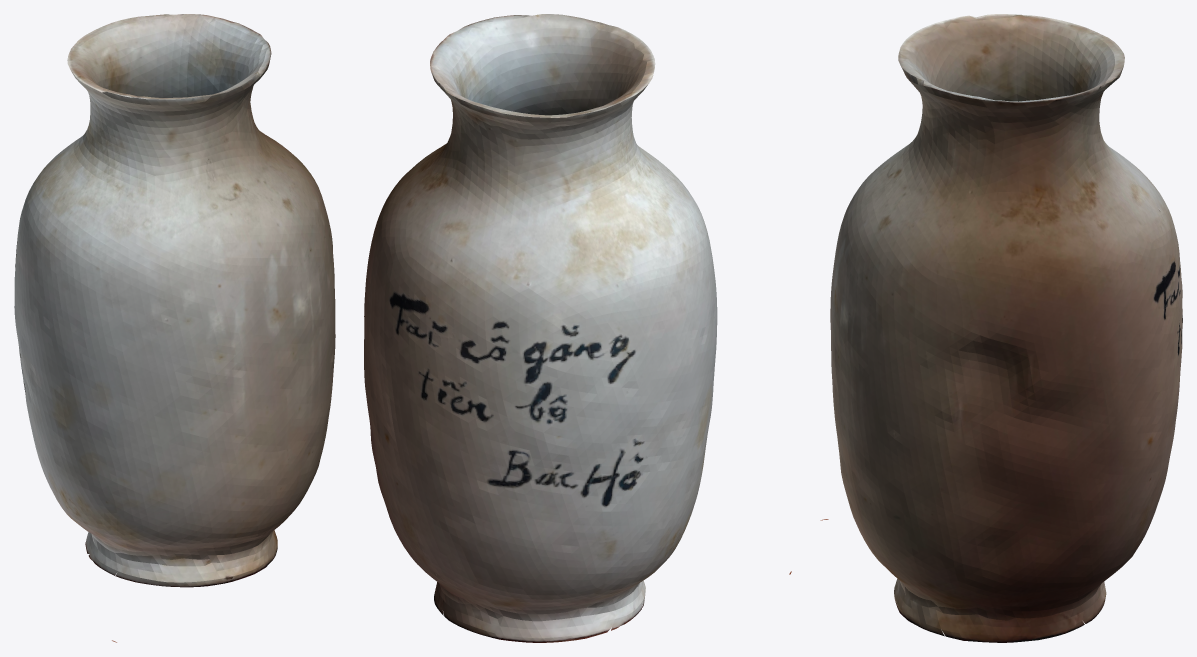
The model's file is binhhoa.glb.
The picture shows the model from 3 angles, left to right: view 1: azimuth 30°, elevation 25°; view 2: azimuth 150°, elevation 25°; view 3: azimuth 270°, elevation 25°; orthographic projection. The views are drawn at different scales.
Size of the model in its own units: 0.3361 by 0.5665 by 0.3445.
1 material, 1 textured.
